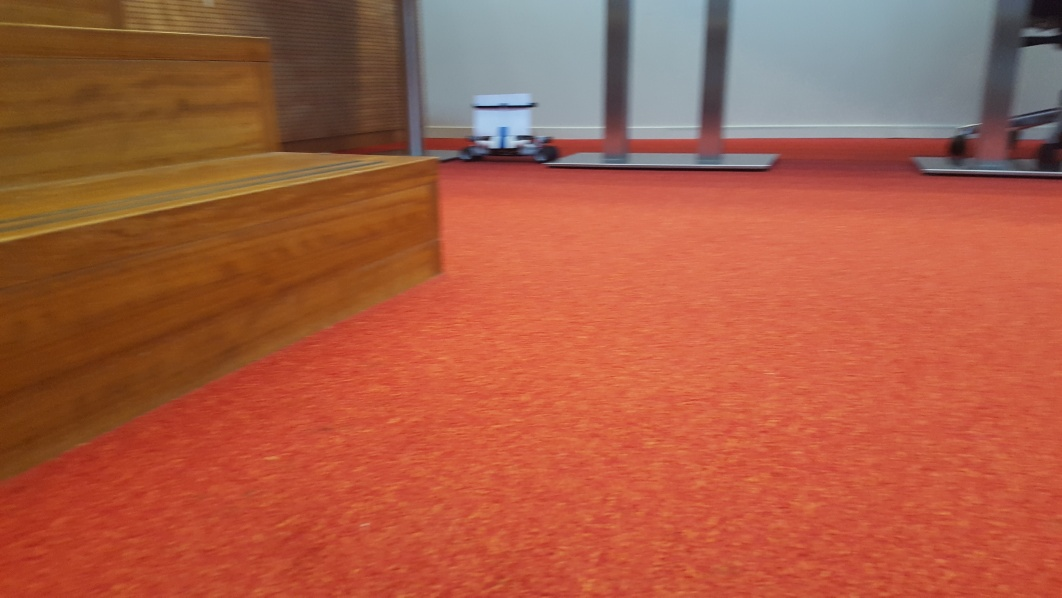car: (457, 91, 559, 163)
